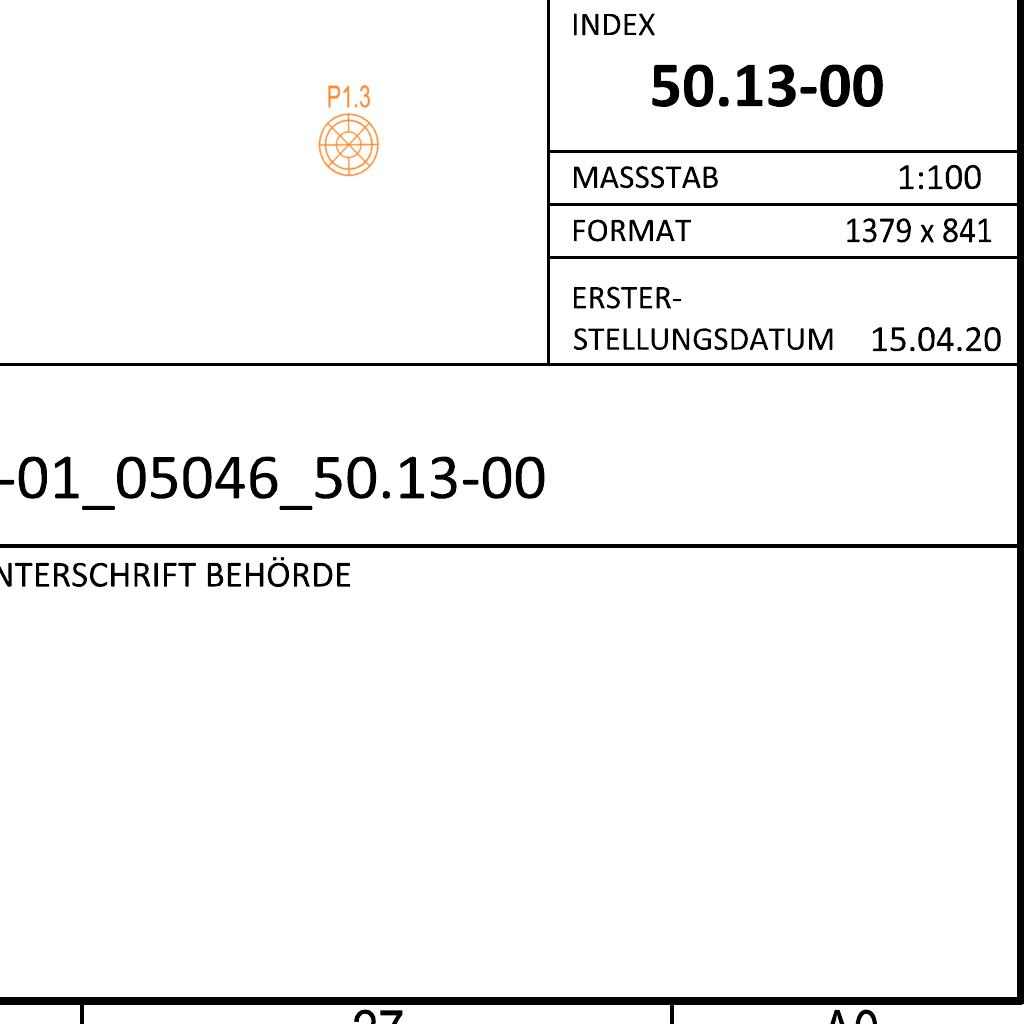Aufbaurundleuchte_LED_Treppenhaus: (317, 76, 386, 178)
